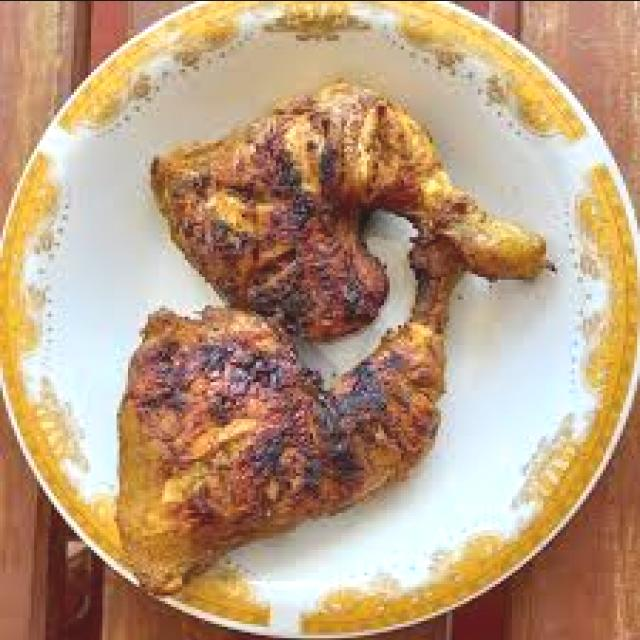ayam bakar: (117, 225, 543, 592), (151, 82, 546, 356)
